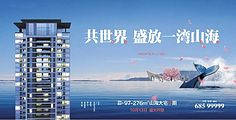buildings: (4, 20, 81, 119)
sea_river: (86, 80, 220, 114)
sky_cloud: (61, 27, 234, 70)
